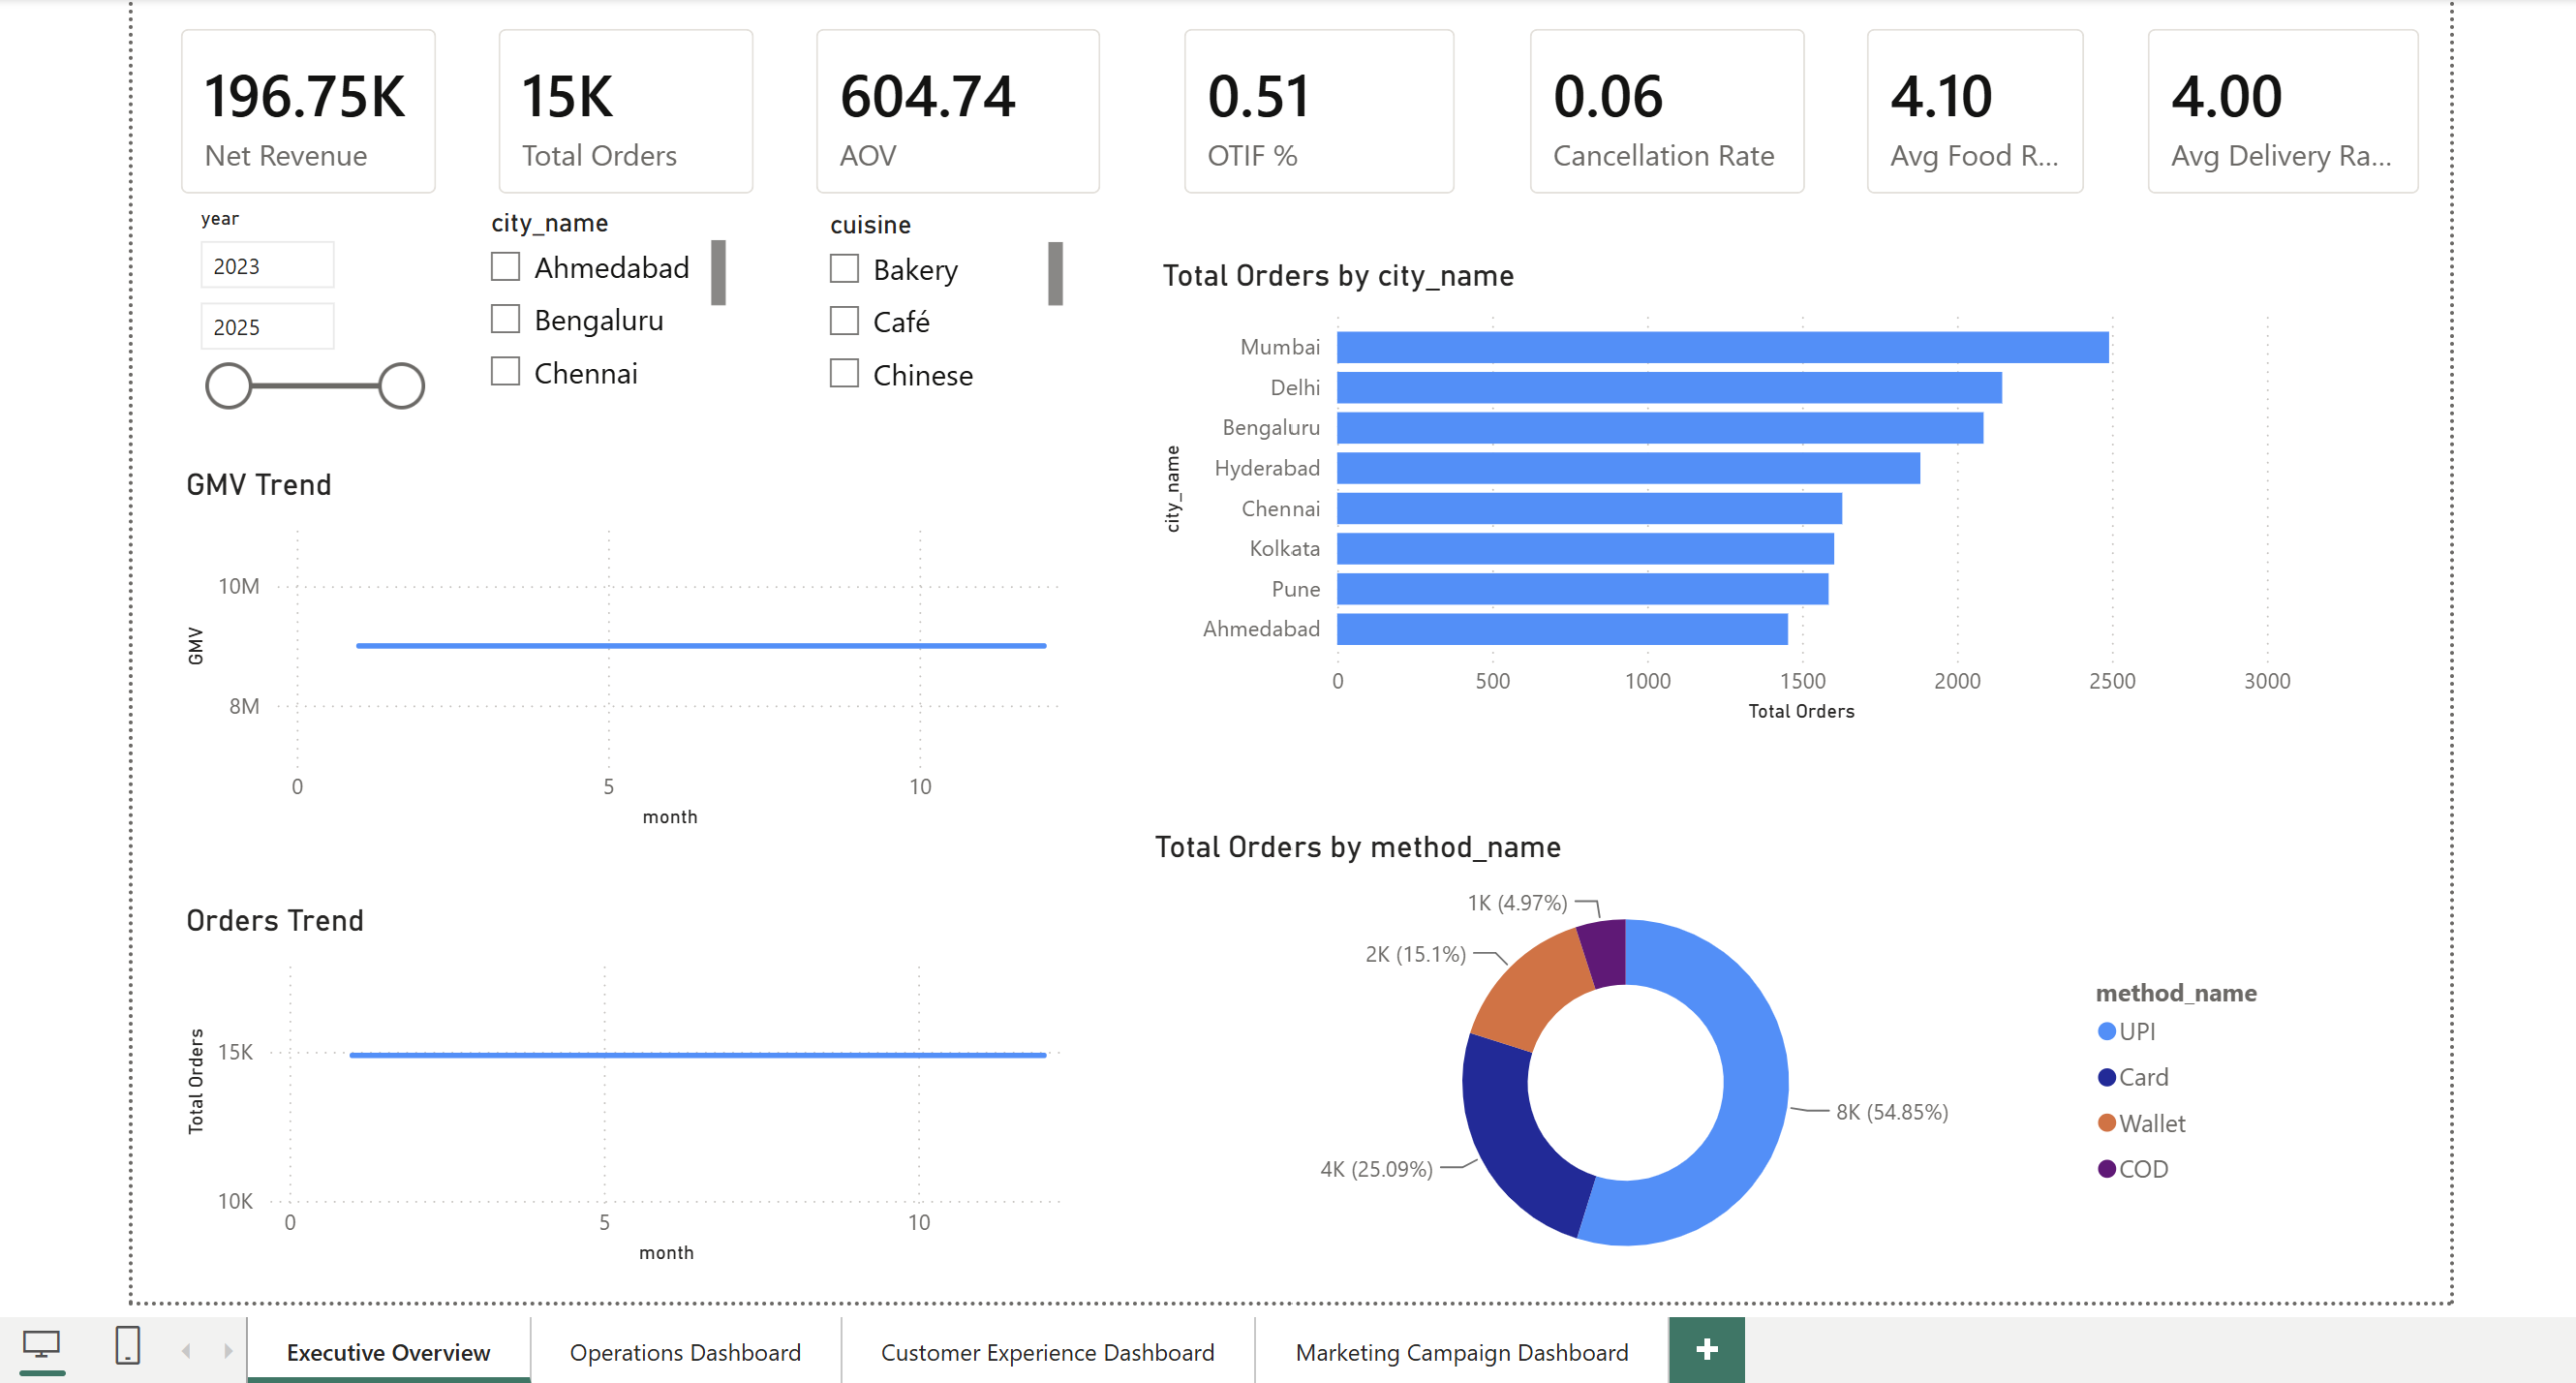

The page's visual inventory and layout, read from the dashboard file:
{"tool":"powerbi","page":{"name":"Executive Overview","canvas":[1280,720],"ordinal":0},"visuals":[{"type":"cardVisual","fields":{"Data":["fact_orders.Net Revenue"]},"box":[9.6,0,175.3,125.9],"z":0},{"type":"cardVisual","fields":{"Data":["fact_orders.Total Orders"]},"box":[184.9,0,175.3,125.9],"z":1000},{"type":"cardVisual","fields":{"Data":["fact_orders.AOV"]},"box":[360.2,0,191.3,125.9],"z":2000},{"type":"cardVisual","fields":{"Data":["fact_orders.OTIF %"]},"box":[564.3,0,183.3,125.9],"z":3000},{"type":"cardVisual","fields":{"Data":["fact_orders.Cancellation Rate"]},"box":[754,0,186.5,125.9],"z":4000},{"type":"cardVisual","fields":{"Data":["fact_orders.Avg Food Rating"]},"box":[940.5,0,154.6,125.9],"z":5000},{"type":"cardVisual","fields":{"Data":["fact_orders.Avg Delivery Rating"]},"box":[1095.1,0,184.9,125.9],"z":6000},{"type":"lineChart","title":"Orders Trend","fields":{"Y":["fact_orders.Total Orders"],"Category":["dim_date.month"]},"box":[25,500,493.8,203.8],"z":7000},{"type":"lineChart","title":"GMV Trend","fields":{"Category":["dim_date.month"],"Y":["fact_orders.GMV"]},"box":[25,258.8,493.8,203.8],"z":8000},{"type":"clusteredBarChart","fields":{"Category":["dim_city.city_name"],"Y":["fact_orders.Total Orders"]},"box":[563.8,143.8,632.5,261.2],"z":9000},{"type":"donutChart","fields":{"Category":["dim_payment_method.method_name"],"Y":["fact_orders.Total Orders"]},"box":[560,458.8,636.2,261.2],"z":10000},{"type":"slicer","fields":{"Values":["dim_date.year"]},"box":[25,110,145,120],"z":11000},{"type":"slicer","fields":{"Values":["dim_city.city_name"]},"box":[185,110,147.5,120],"z":12000},{"type":"slicer","fields":{"Values":["dim_restaurant.cuisine"]},"box":[372.5,111.2,146.2,118.8],"z":13000}]}

Visuals, with their boxes on the page's 1280x720 design canvas (x1, y1, x2, y2). These are canvas units, not pixel positions in the 2576x1383 screenshot, which may show the page scaled, cropped or inside an application window:
cardVisual - fact_orders.Net Revenue: 10 0 185 126
cardVisual - fact_orders.Total Orders: 185 0 360 126
cardVisual - fact_orders.AOV: 360 0 552 126
cardVisual - fact_orders.OTIF %: 564 0 748 126
cardVisual - fact_orders.Cancellation Rate: 754 0 940 126
cardVisual - fact_orders.Avg Food Rating: 940 0 1095 126
cardVisual - fact_orders.Avg Delivery Rating: 1095 0 1280 126
"Orders Trend" lineChart: 25 500 519 704
"GMV Trend" lineChart: 25 259 519 463
clusteredBarChart - dim_city.city_name x fact_orders.Total Orders: 564 144 1196 405
donutChart - dim_payment_method.method_name x fact_orders.Total Orders: 560 459 1196 720
slicer - dim_date.year: 25 110 170 230
slicer - dim_city.city_name: 185 110 332 230
slicer - dim_restaurant.cuisine: 372 111 519 230
